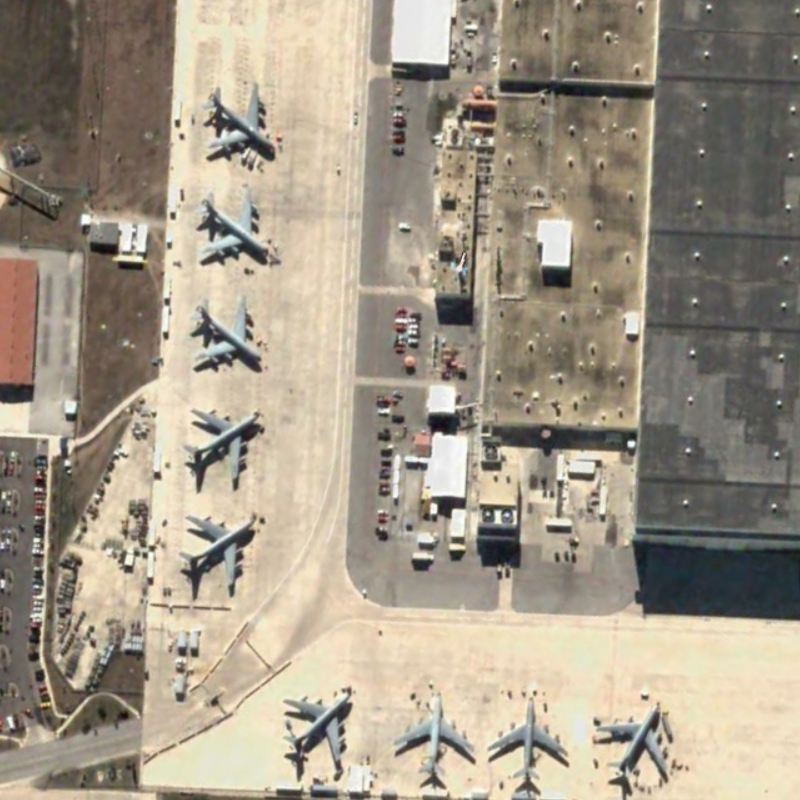A14: (383, 683, 482, 784), (481, 689, 576, 786), (587, 694, 682, 790), (176, 392, 265, 491), (174, 502, 263, 601), (269, 678, 360, 772), (189, 79, 287, 161), (181, 291, 271, 373), (190, 181, 276, 263)
